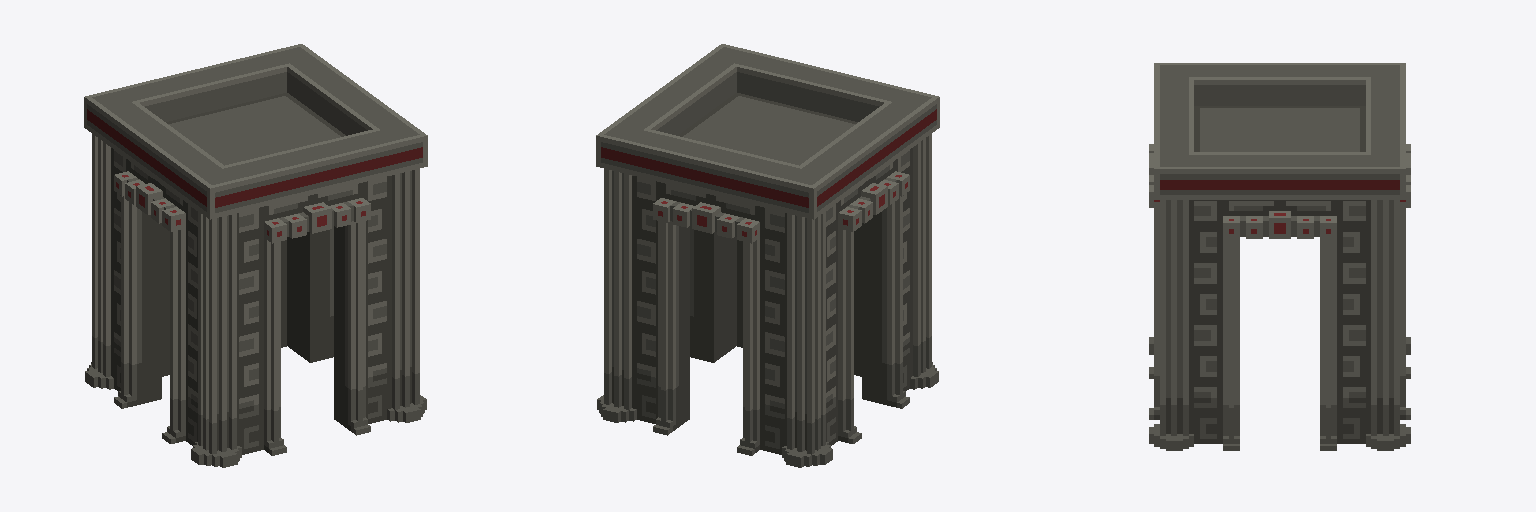
3 views of the same model, side by side, from view 1: azimuth 30°, elevation 25°; view 2: azimuth 150°, elevation 25°; view 3: azimuth 270°, elevation 25° (orthographic).
Parts seen in each view (by area): view 1: platform; view 2: platform; view 3: platform.
Part boxes in pixels (bbox=[...]): platform: bbox=[84, 44, 427, 467]; platform: bbox=[596, 44, 939, 467]; platform: bbox=[1149, 63, 1410, 450].
Size of the model in its own units: 4.6 by 5.4 by 4.6.
1 materials, 1 textured.